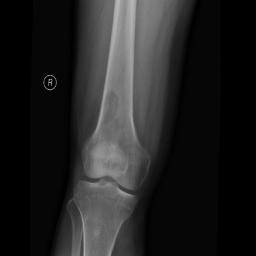cancer: (101, 95, 122, 126)
